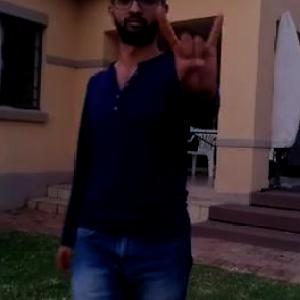takeoff-hand: (144, 1, 231, 109)
